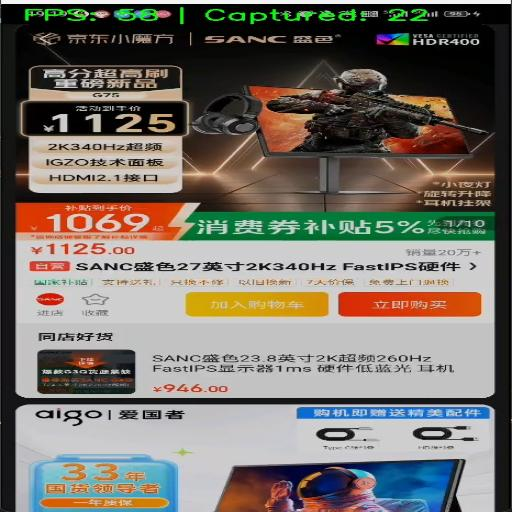back: (22, 26, 64, 52)
butten: (17, 241, 500, 273), (23, 287, 74, 314)
